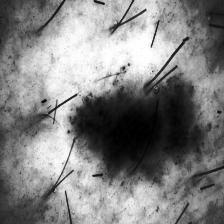Benign Marking or Mole: (79, 96, 205, 161)
